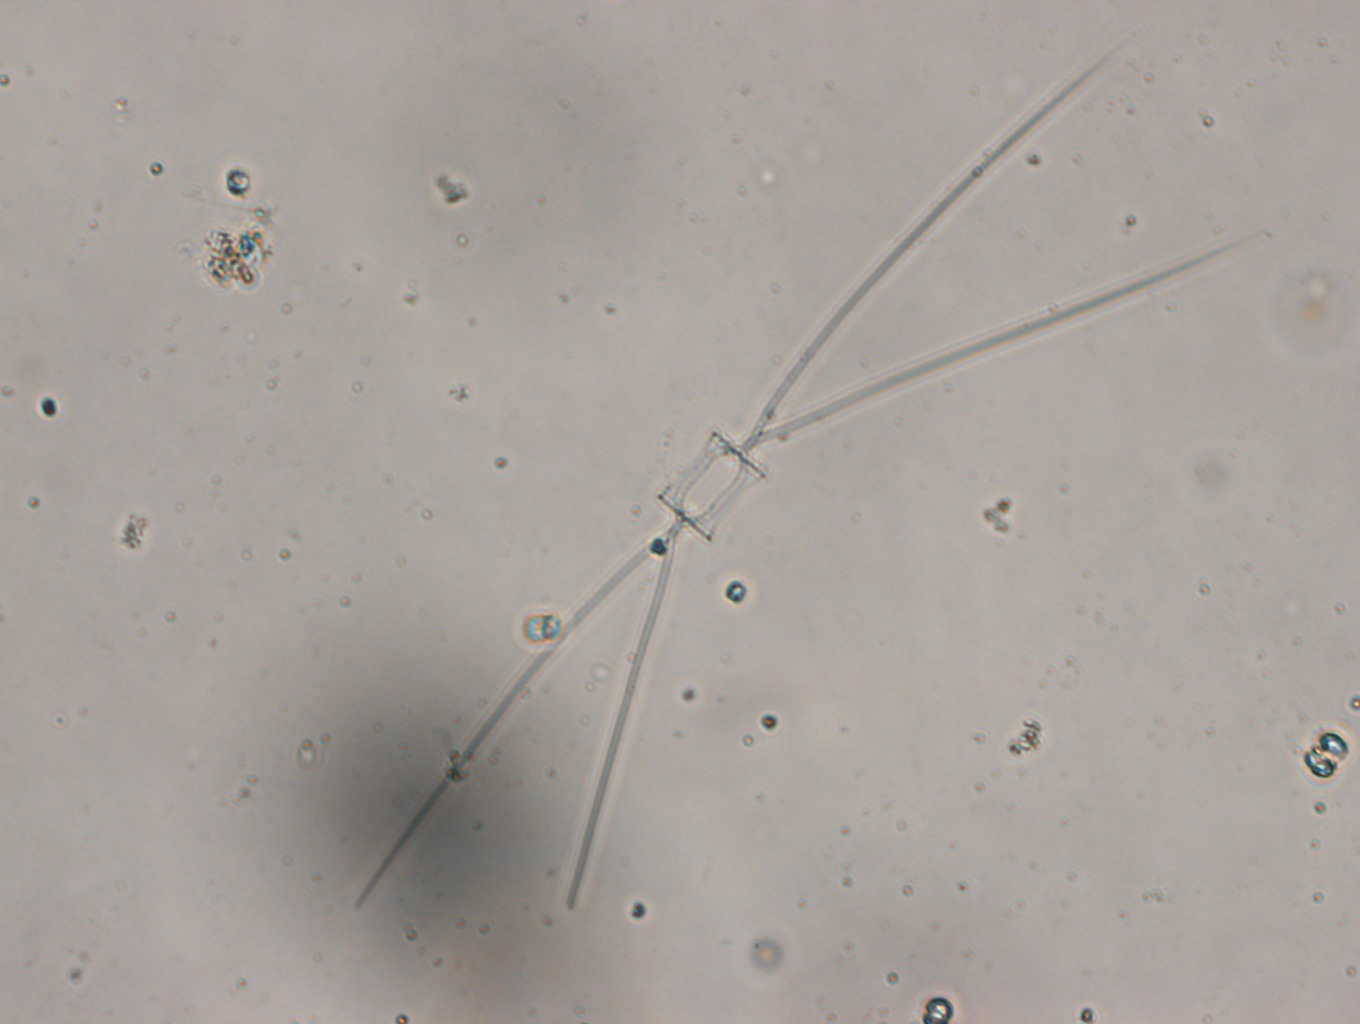chaetoceros: (353, 42, 1262, 910)
